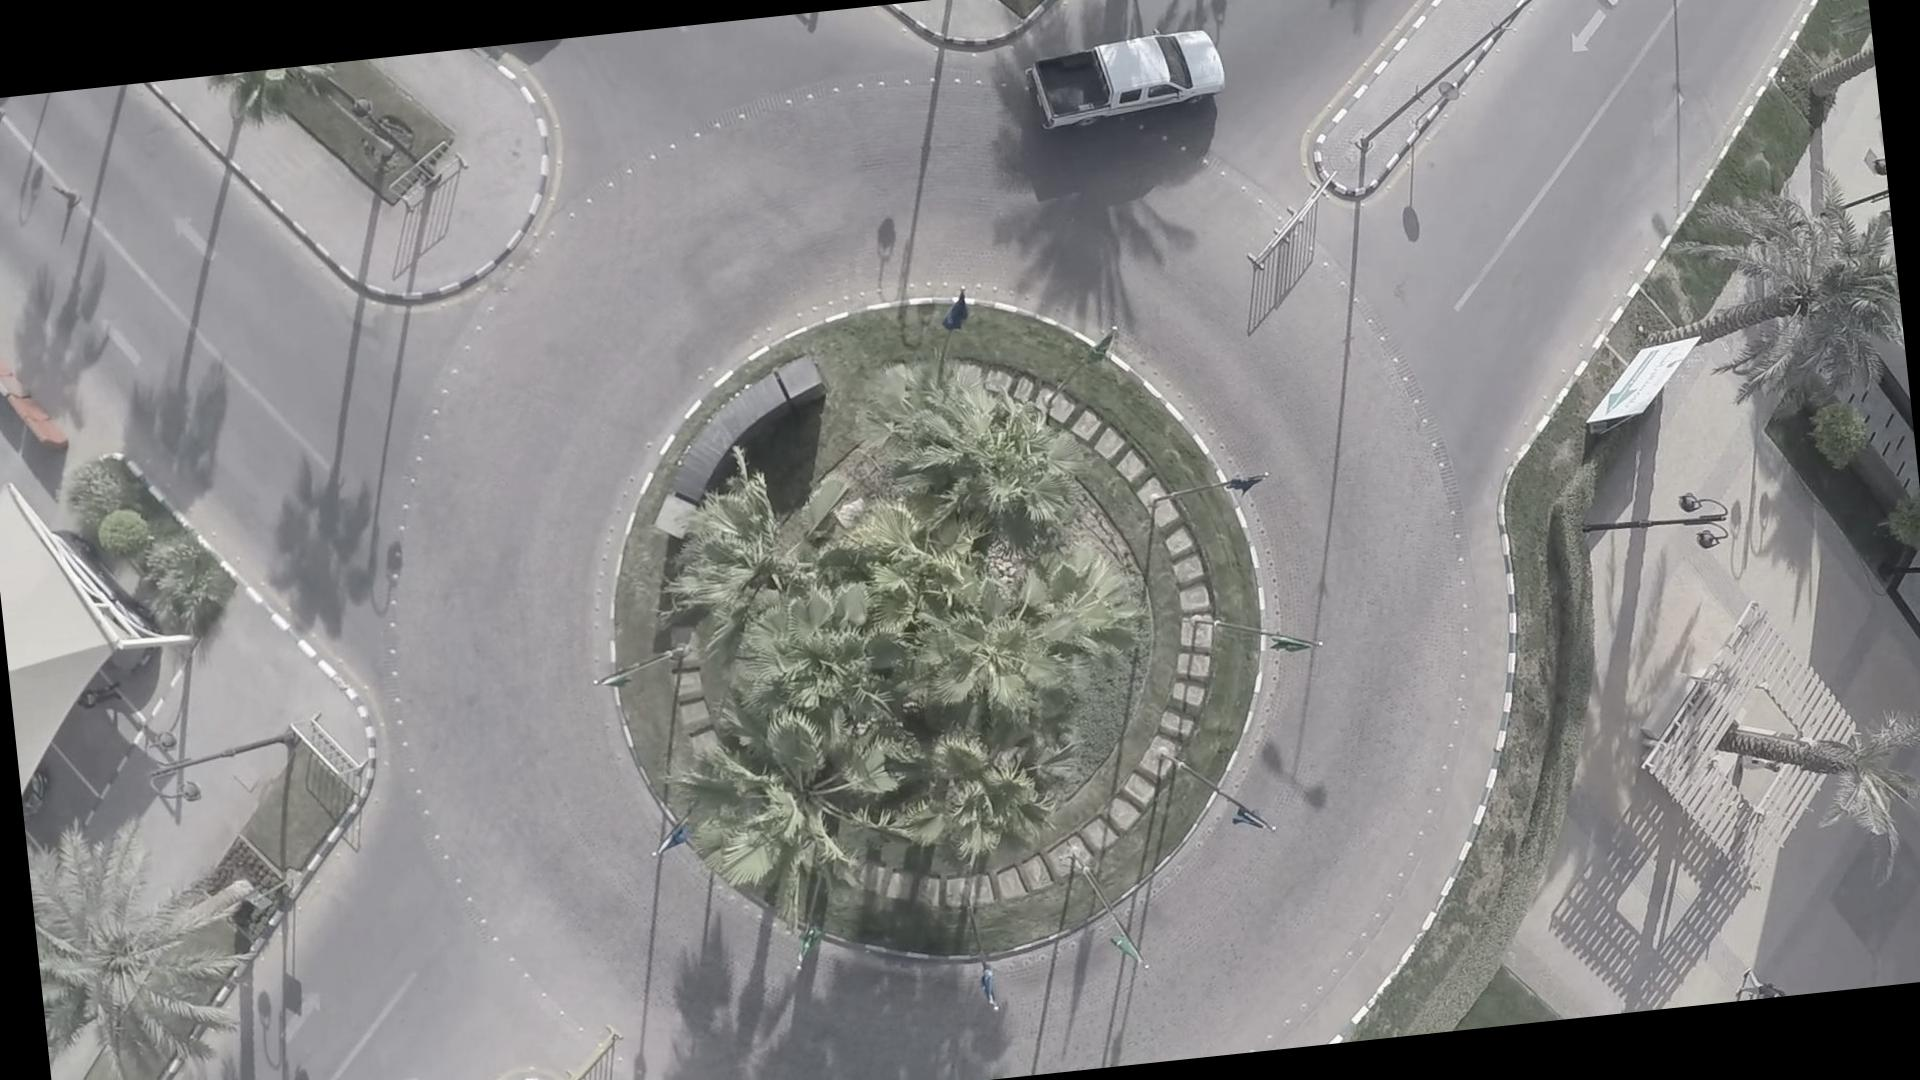vehicle: (1021, 20, 1232, 137)
